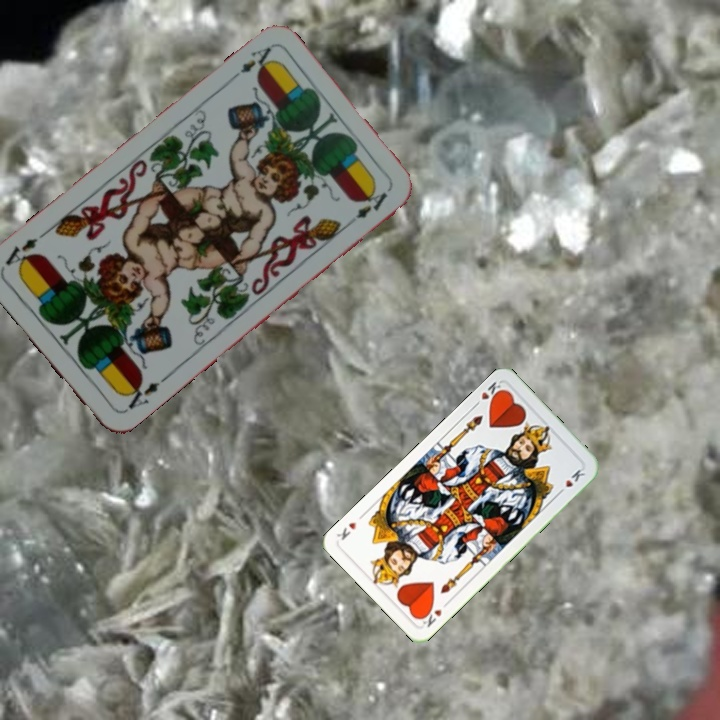EA: (225, 42, 276, 85), (119, 376, 163, 415)
HK: (415, 597, 452, 630), (470, 378, 507, 410)
